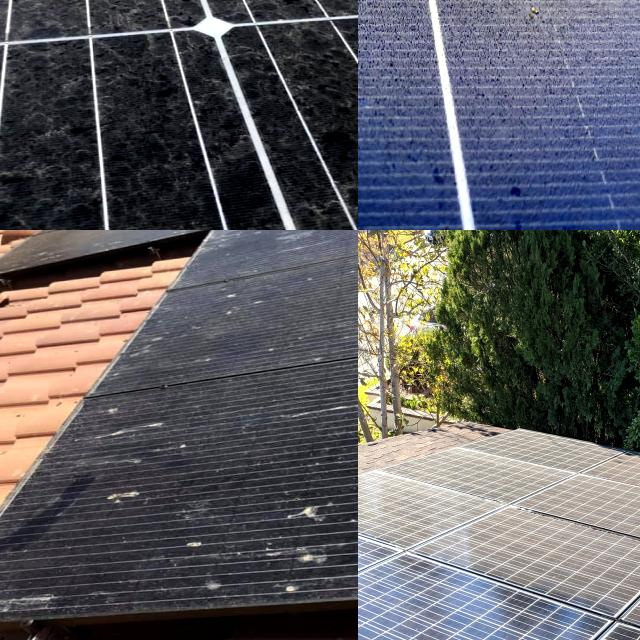bird: (261, 498, 358, 590), (70, 395, 204, 455), (162, 536, 240, 603), (73, 471, 194, 512), (0, 579, 82, 620), (216, 272, 272, 324)
dust: (0, 26, 212, 230), (228, 25, 358, 230), (482, 504, 640, 628), (0, 0, 210, 69), (359, 462, 477, 558), (0, 0, 176, 52), (181, 0, 358, 45), (0, 0, 156, 48), (485, 434, 630, 484), (243, 0, 358, 63), (192, 0, 358, 42), (0, 0, 256, 19)
